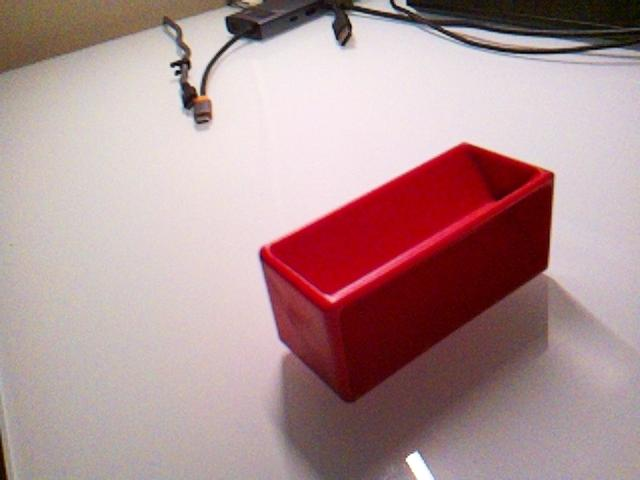red: (258, 140, 556, 403)
